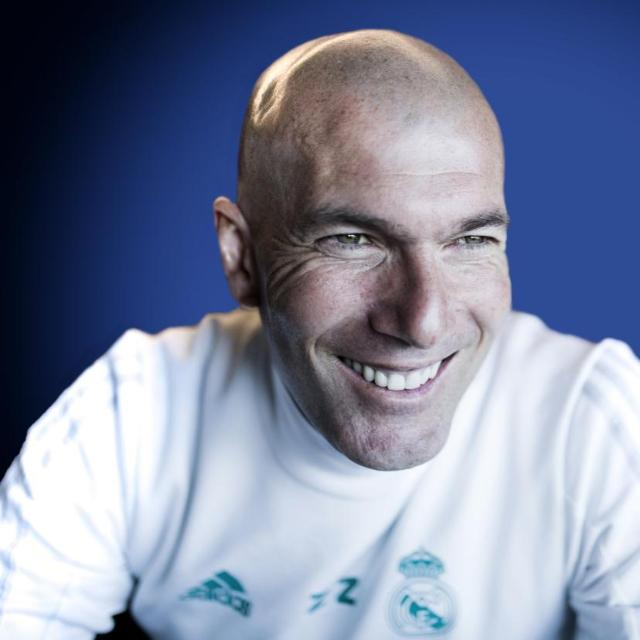crows_feet: (270, 228, 310, 280)
forehead: (400, 160, 480, 188)
